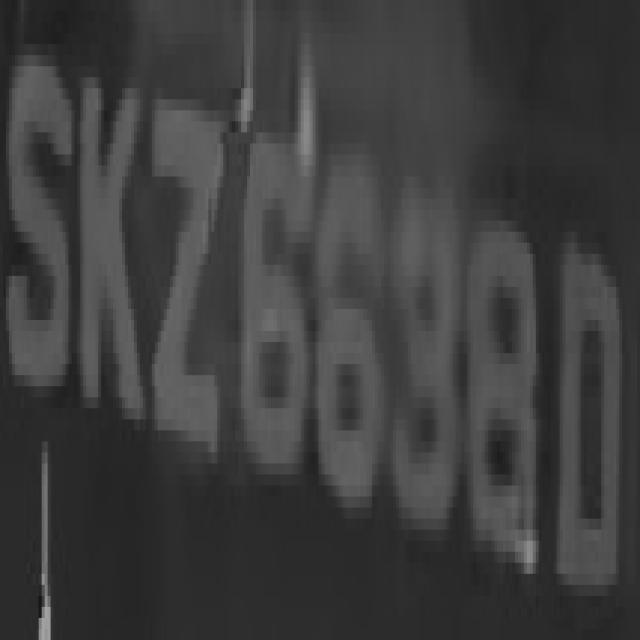3: (384, 154, 455, 585)
6: (307, 110, 387, 563), (229, 66, 310, 508)
8: (455, 187, 548, 607)
D: (548, 210, 631, 629)
K: (71, 56, 146, 442)
S: (5, 0, 71, 419)
Z: (149, 66, 238, 497)
